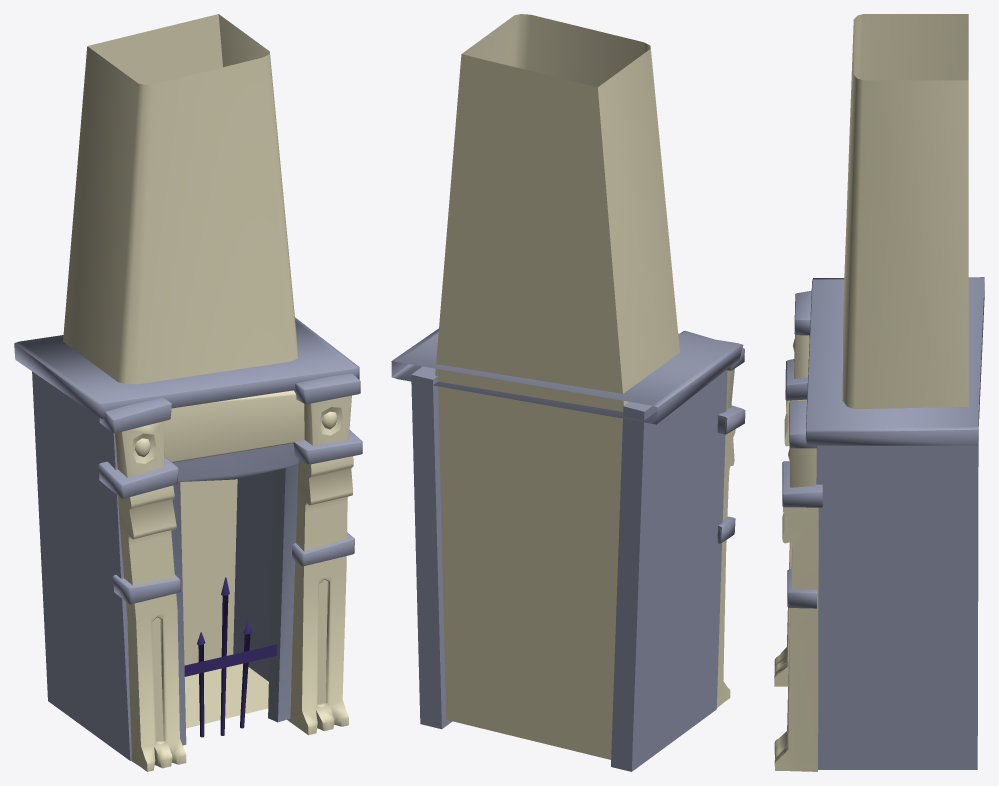
Rendered from props_cheminee.fbx.
The picture shows the model from 3 angles, left to right: view 1: azimuth 30°, elevation 25°; view 2: azimuth 150°, elevation 25°; view 3: azimuth 270°, elevation 25°; orthographic projection. The views are drawn at different scales.
Parts seen in each view (by area): view 1: Cube.003; view 2: Cube.003; view 3: Cube.003.
Boxes of the visible parts, <box> form: Cube.003: <box>14,14,362,771</box>; Cube.003: <box>391,14,745,771</box>; Cube.003: <box>774,14,984,771</box>.
Size of the model in its own units: 4.34 by 2.95 by 10.43.
